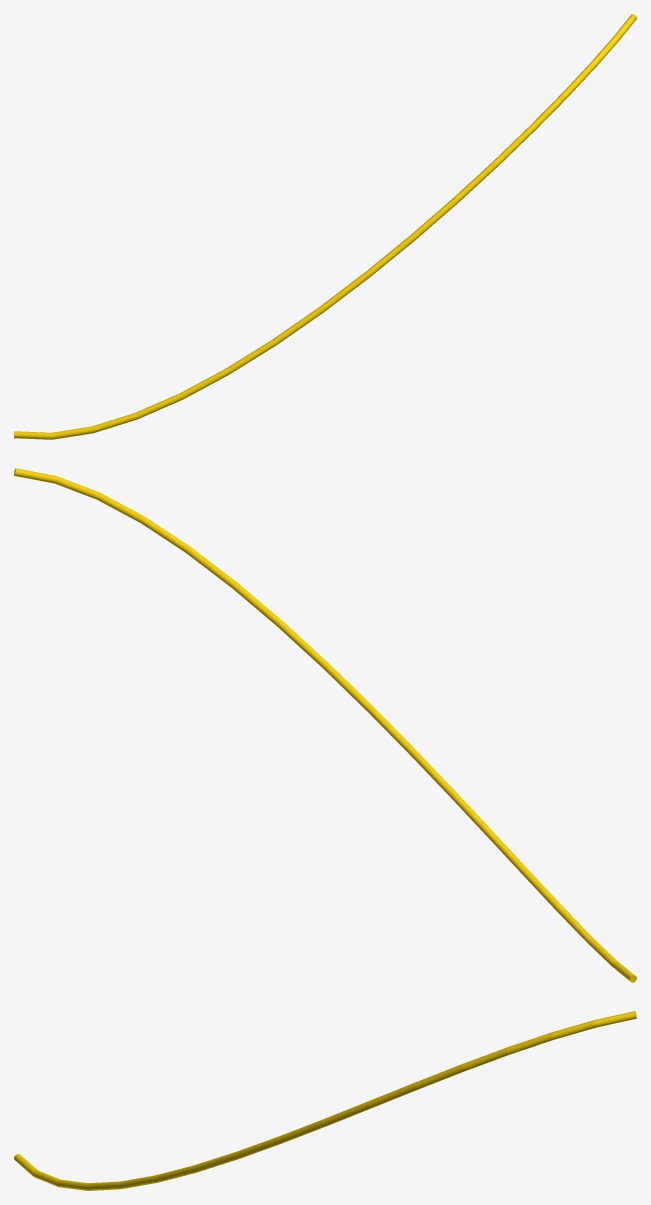
The model's file is Event_421278790_track_16.fbx.
3 renders of one model, top to bottom at view 1: azimuth 30°, elevation 25°; view 2: azimuth 150°, elevation 25°; view 3: azimuth 330°, elevation 25°, orthographic. The views are drawn at different scales.
Parts seen in each view (by area): view 1: Model; view 2: Model; view 3: Model.
Boxes of the visible parts, x1=… form: Model: x1=14, y1=14, x2=636, y2=439; Model: x1=14, y1=468, x2=636, y2=982; Model: x1=14, y1=1011, x2=636, y2=1190.
Size of the model in its own units: 3.88 by 1.88 by 0.7182.
